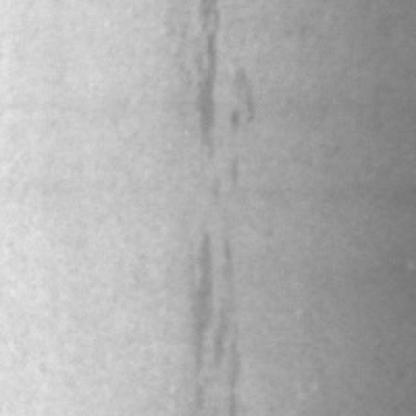inclusion: (172, 208, 245, 412), (183, 0, 250, 179)
